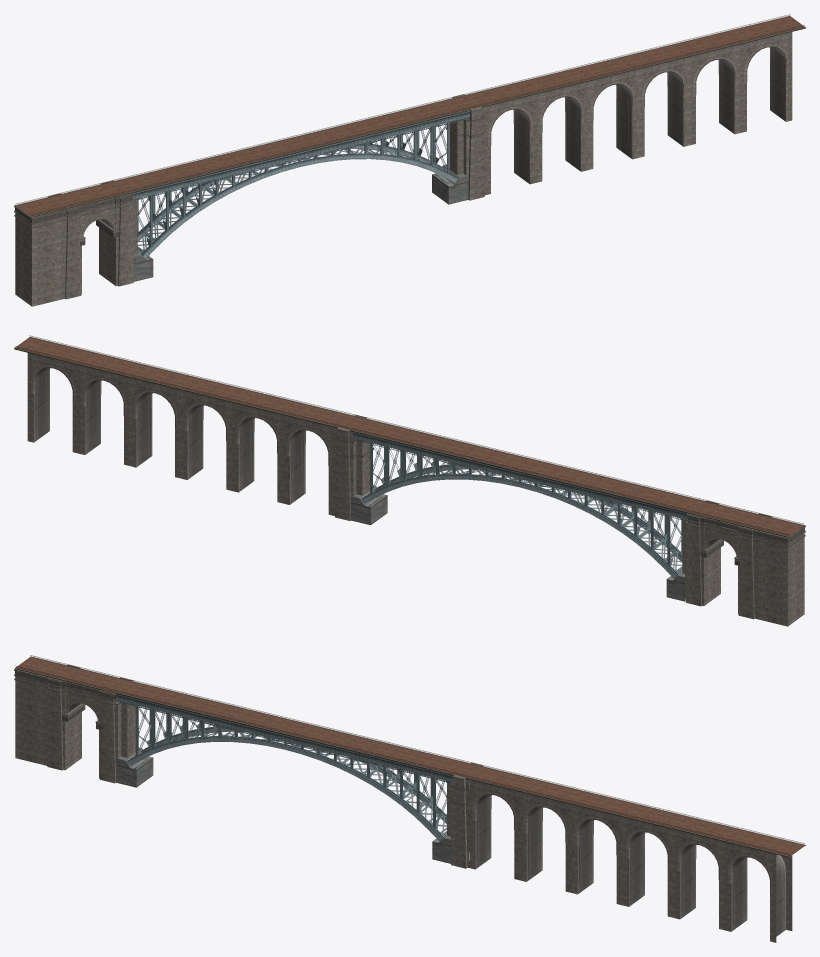
The model's file is nyc_the_high_bridge.glb.
The picture shows the model from 3 angles, top to bottom: view 1: azimuth 30°, elevation 25°; view 2: azimuth 150°, elevation 25°; view 3: azimuth 330°, elevation 25°; orthographic projection.
Parts seen in each view (by area): view 1: Cylinder.002_3, Cylinder.007_8, Cylinder.004_5, Cylinder.005_6, Cylinder.001_2, Cylinder.006_7, Cylinder.003_4, Cylinder.008_9; view 2: Cylinder.002_3, Cylinder.007_8, Cylinder.004_5, Cylinder.005_6, Cylinder.001_2, Cylinder.006_7, Cylinder.003_4, Cylinder.008_9; view 3: Cylinder.002_3, Cylinder.007_8, Cylinder.004_5, Cylinder.001_2, Cylinder.005_6, Cylinder.006_7, Cylinder.003_4, Cylinder.008_9.
Boxes of the visible parts, x1,y1,x2,y2 form: Cylinder.002_3: (15, 32, 792, 306); Cylinder.007_8: (16, 16, 804, 216); Cylinder.004_5: (132, 110, 469, 281); Cylinder.005_6: (15, 14, 804, 254); Cylinder.001_2: (100, 47, 785, 228); Cylinder.006_7: (14, 16, 805, 239); Cylinder.003_4: (82, 44, 789, 237); Cylinder.008_9: (15, 196, 132, 245); Cylinder.002_3: (27, 353, 804, 626); Cylinder.007_8: (14, 337, 804, 536); Cylinder.004_5: (350, 432, 687, 601); Cylinder.005_6: (15, 335, 803, 574); Cylinder.001_2: (34, 368, 719, 548); Cylinder.006_7: (14, 337, 805, 559); Cylinder.003_4: (30, 364, 737, 557); Cylinder.008_9: (687, 501, 804, 565); Cylinder.002_3: (15, 669, 792, 942); Cylinder.007_8: (15, 657, 805, 856); Cylinder.004_5: (116, 694, 452, 863); Cylinder.001_2: (68, 703, 785, 936); Cylinder.005_6: (16, 655, 804, 855); Cylinder.006_7: (14, 656, 805, 857); Cylinder.003_4: (65, 702, 772, 893); Cylinder.008_9: (15, 671, 116, 729).
Size of the model in its own units: 2026 by 229 by 90.11.
8 materials, 8 textured.
